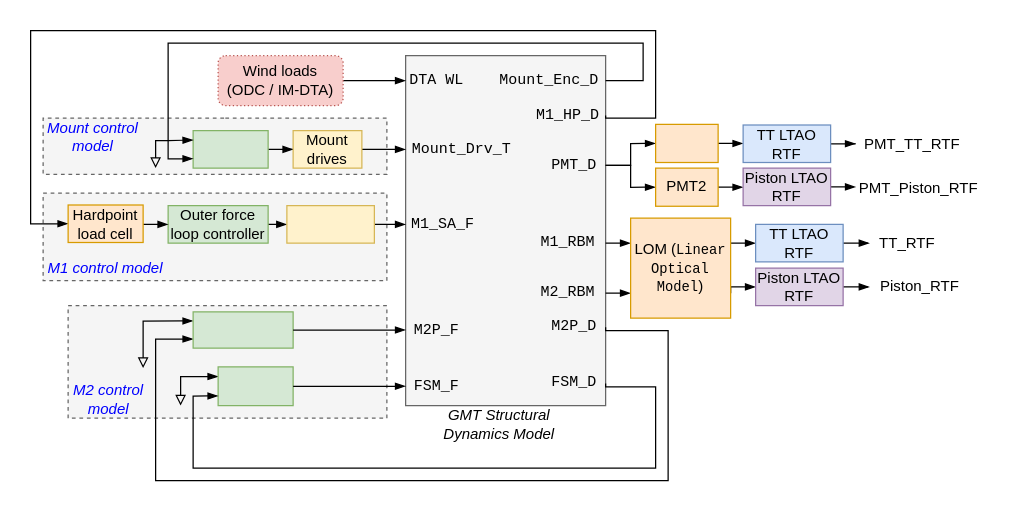
Image size: 1009x513. Some labels were removed from this diagram. The centre of each missing label's shape, as x and y in pixels:
"M1 support actuators" belongs at [330,223].
"M2 FSM controller" belongs at [255,386].
"M2 Positioner controller" belongs at [242,329].
"Mount controller" belongs at [230,148].
"PMT1" belongs at [686,142].
